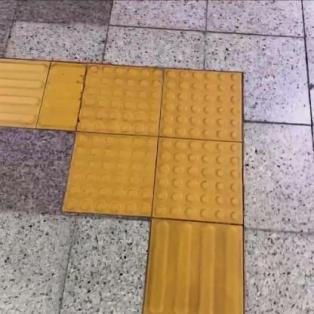Podoctatil: (44, 39, 262, 264)
